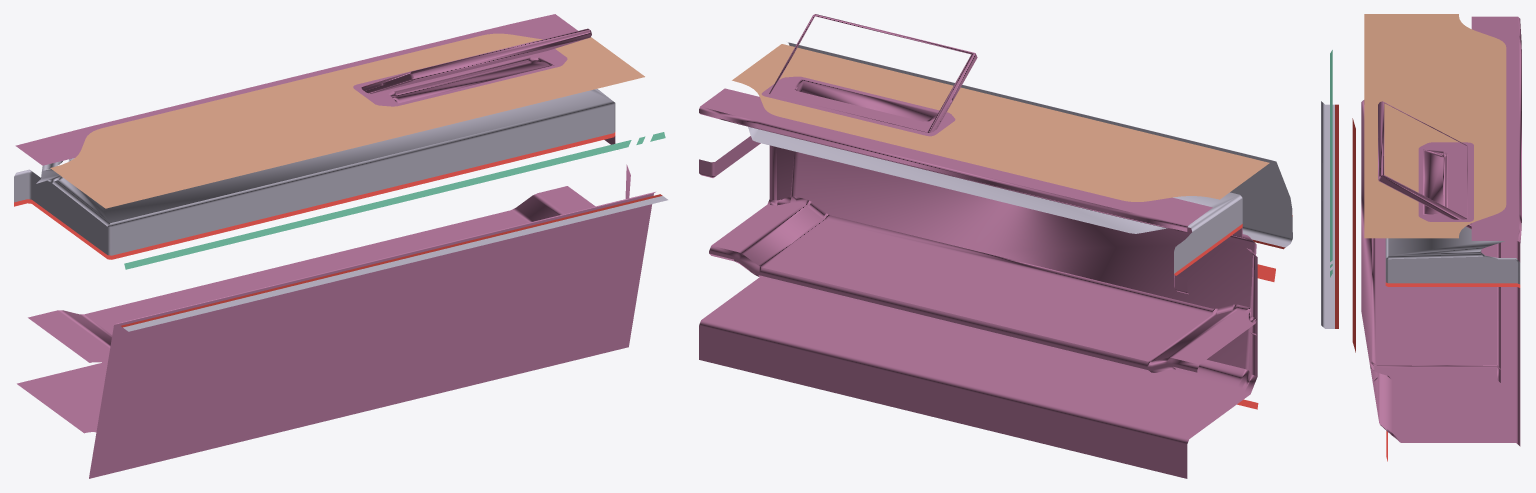
File: counter_welcome_1_console_02x0075x01_a.glb
3 renders of one model, left to right at view 1: azimuth 30°, elevation 25°; view 2: azimuth 150°, elevation 25°; view 3: azimuth 270°, elevation 25°, orthographic. The views are drawn at different scales.
Bounding box in the file's own units: 2 × 1.18 × 0.7565.
